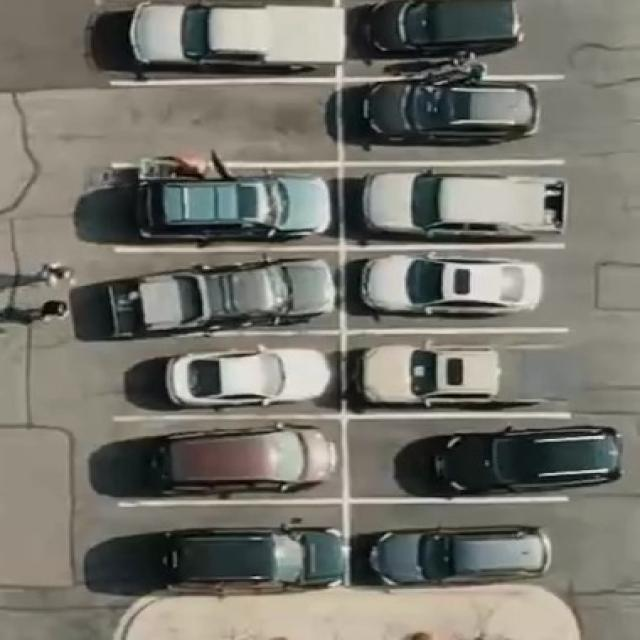space-empty: (103, 75, 337, 169)
space-occupied: (88, 243, 340, 340), (345, 413, 613, 502), (94, 500, 347, 593), (342, 326, 588, 416), (101, 414, 345, 502), (101, 160, 342, 248), (339, 66, 559, 162), (100, 339, 342, 424), (340, 157, 573, 245), (101, 0, 344, 84), (342, 242, 567, 330), (347, 502, 568, 590), (342, 0, 532, 72)
